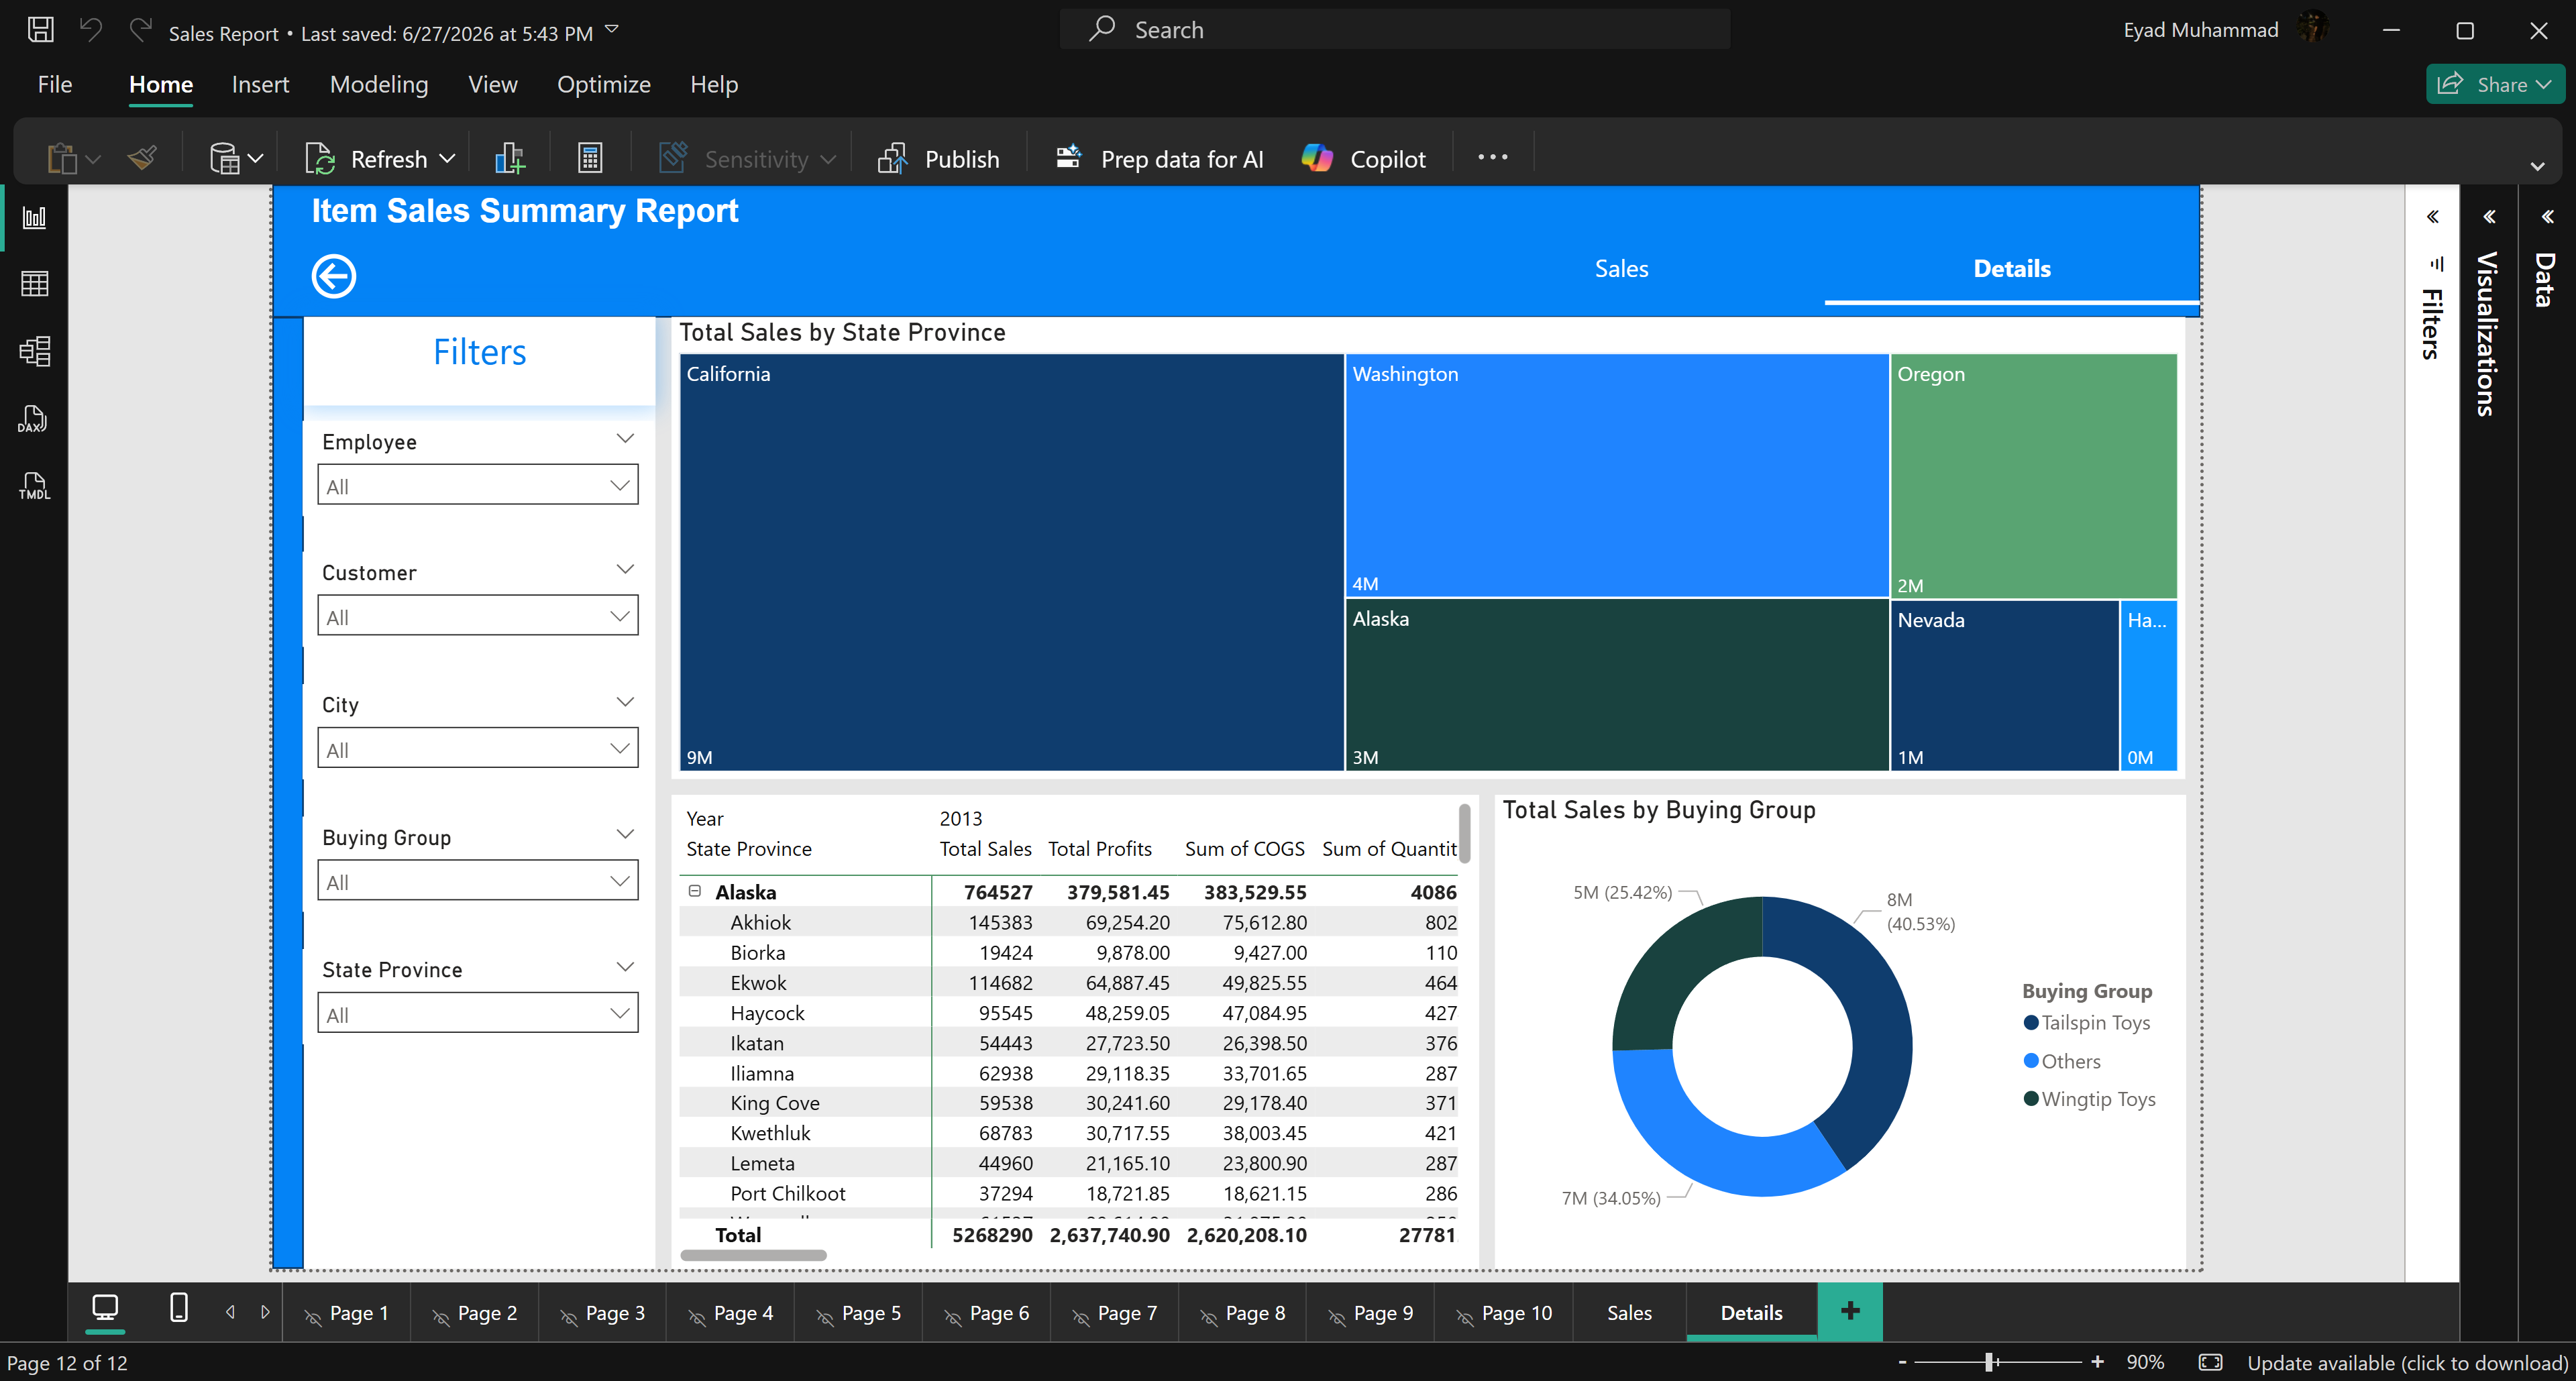

What the dashboard file says about the page in this screenshot:
{"tool":"powerbi","page":{"name":"Details","canvas":[1280,720],"ordinal":11},"visuals":[{"type":"shape","box":[0,0,1279.8,88.3],"z":0},{"type":"shape","box":[0,88.3,20.9,631.9],"z":1000},{"type":"shape","box":[20.9,88.3,233.1,631.9],"z":2000},{"type":"textbox","box":[20.9,0,326.7,41.9],"z":3000},{"type":"textbox","title":"csdc","box":[20.9,88.3,233.1,58.9],"z":4000},{"type":"slicer","fields":{"Values":["DimEmployee.Employee"]},"box":[20.6,156.4,233.3,63.1],"z":5000},{"type":"slicer","fields":{"Values":["DimCustomer.Customer"]},"box":[20.6,244.3,233.3,63.1],"z":6000},{"type":"slicer","fields":{"Values":["DimCity.City"]},"box":[20.6,332.1,233.3,63.1],"z":7000},{"type":"slicer","fields":{"Values":["DimCustomer.Buying Group"]},"box":[20.6,419.9,233.3,63.1],"z":8000},{"type":"slicer","fields":{"Values":["DimCity.State Province"]},"box":[20.6,507.7,233.3,63.1],"z":9000},{"type":"pivotTable","fields":{"Rows":["DimCity.State Province Hierarchy.State Province","DimCity.State Province Hierarchy.City"],"Columns":["Calender Table.Year"],"Values":["FactSale.Total Sales","FactSale.Total Profits","Sum(FactSale.COGS)","Sum(FactSale.Quantity)"]},"box":[265,404.9,536.2,315.3],"z":10000},{"type":"actionButton","box":[20.9,40.7,100,39.5],"z":11000},{"type":"pageNavigator","box":[770.9,30.2,509.3,50],"z":12000},{"type":"treemap","fields":{"Group":["DimCity.State Province"],"Values":["FactSale.Total Sales"]},"box":[265,88.3,1004.9,306.8],"z":13000},{"type":"donutChart","fields":{"Category":["DimCustomer.Buying Group"],"Y":["FactSale.Total Sales"]},"box":[811,404.9,458.9,315.3],"z":14000}]}

Visuals, with their boxes on the page's 1280x720 design canvas (x1, y1, x2, y2). These are canvas units, not pixel positions in the 2576x1381 screenshot, which may show the page scaled, cropped or inside an application window:
shape: left=0, top=0, right=1280, bottom=88
shape: left=0, top=88, right=21, bottom=720
shape: left=21, top=88, right=254, bottom=720
textbox: left=21, top=0, right=348, bottom=42
"csdc" textbox: left=21, top=88, right=254, bottom=147
slicer - DimEmployee.Employee: left=21, top=156, right=254, bottom=220
slicer - DimCustomer.Customer: left=21, top=244, right=254, bottom=307
slicer - DimCity.City: left=21, top=332, right=254, bottom=395
slicer - DimCustomer.Buying Group: left=21, top=420, right=254, bottom=483
slicer - DimCity.State Province: left=21, top=508, right=254, bottom=571
pivotTable - DimCity.State Province Hierarchy.State Province x DimCity.State Province Hierarchy.City: left=265, top=405, right=801, bottom=720
actionButton: left=21, top=41, right=121, bottom=80
pageNavigator: left=771, top=30, right=1280, bottom=80
treemap - DimCity.State Province x FactSale.Total Sales: left=265, top=88, right=1270, bottom=395
donutChart - DimCustomer.Buying Group x FactSale.Total Sales: left=811, top=405, right=1270, bottom=720
